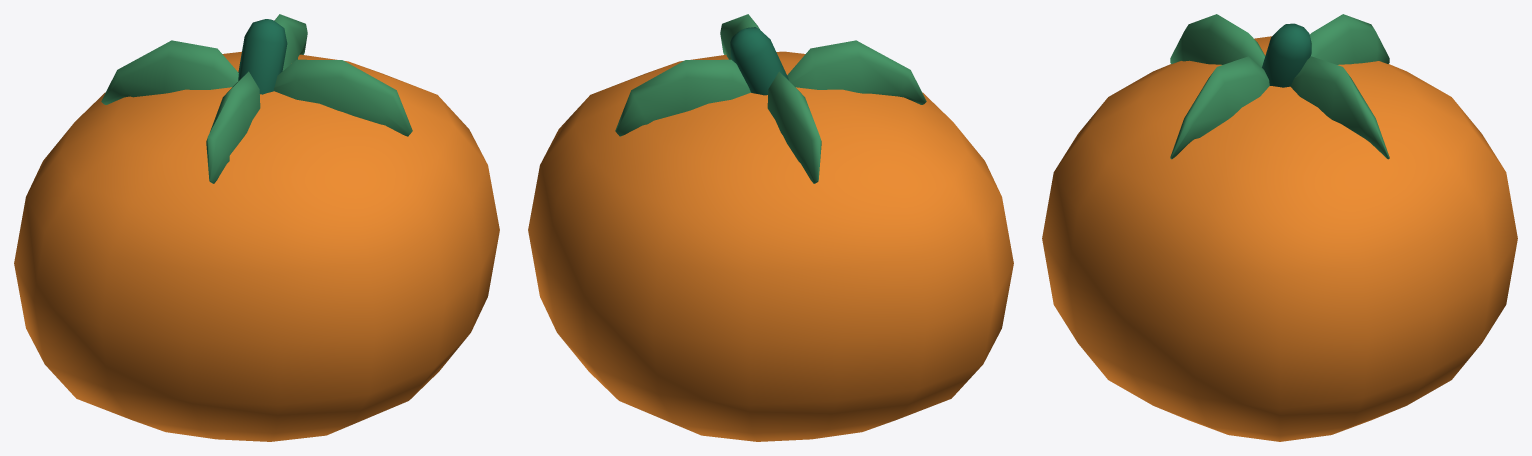
The model's file is persimmon.glb.
3 renders of one model, left to right at view 1: azimuth 30°, elevation 25°; view 2: azimuth 150°, elevation 25°; view 3: azimuth 270°, elevation 25°, orthographic.
Parts seen in each view (by area): view 1: persimmon; view 2: persimmon; view 3: persimmon.
Part boxes in pixels (left/top/right/bottom): persimmon: left=14, top=14, right=499, bottom=441; persimmon: left=528, top=14, right=1013, bottom=441; persimmon: left=1042, top=14, right=1517, bottom=441.
Bounding box in the file's own units: 0.5465 × 0.4448 × 0.5009.
